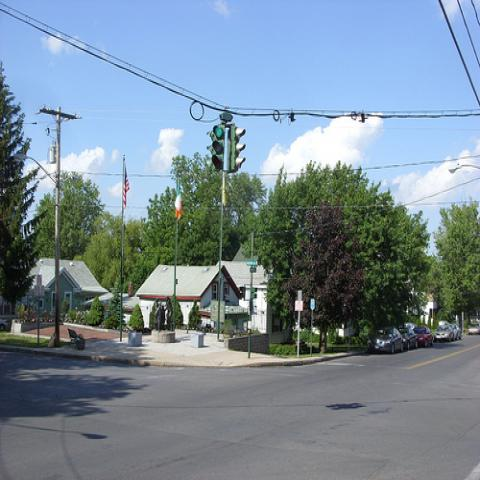car: (372, 327, 404, 354), (396, 327, 419, 349), (414, 326, 434, 348), (434, 324, 454, 342), (450, 324, 461, 341), (469, 322, 479, 336), (405, 322, 418, 330)
